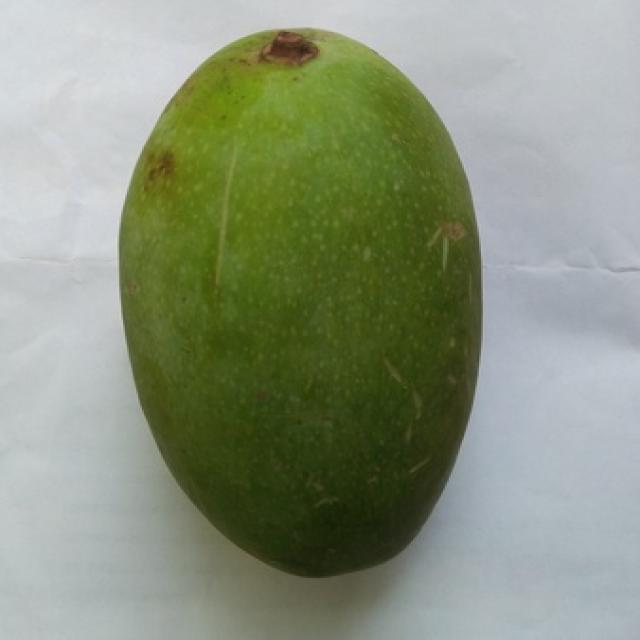Mango: (121, 29, 481, 574)
